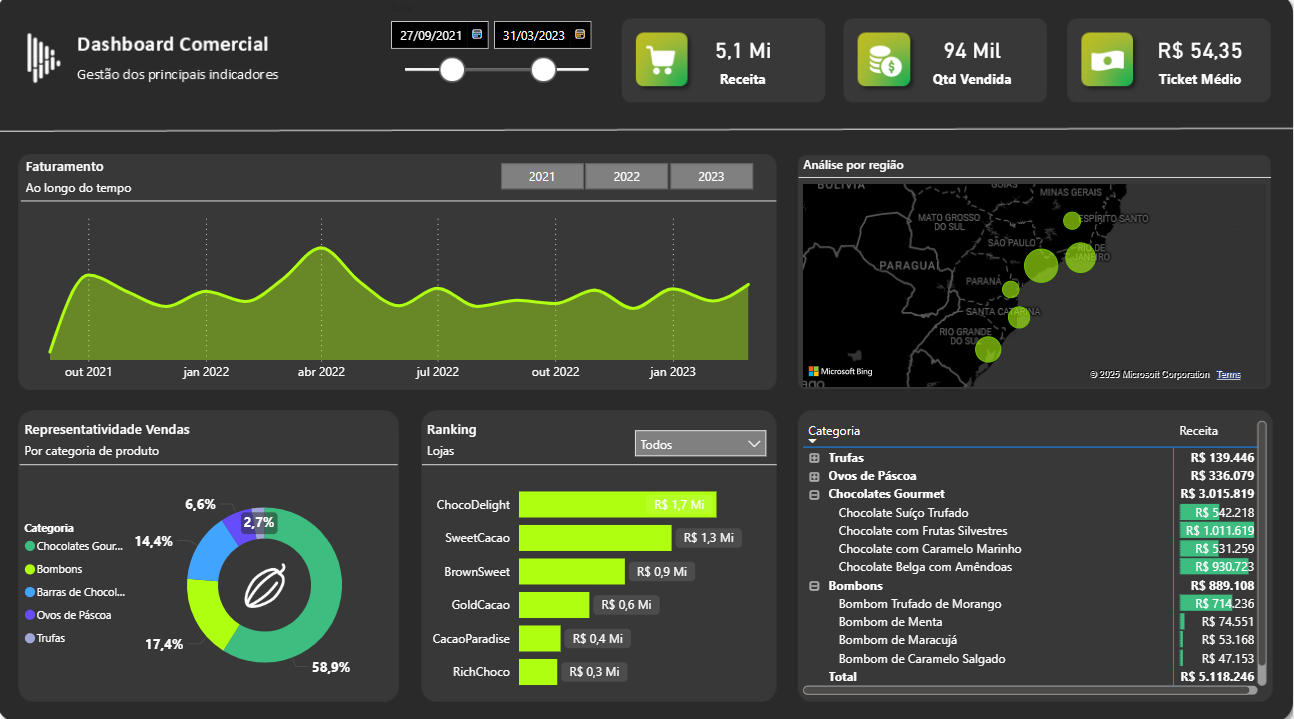

This screenshot's page, from the dashboard's own definition file:
{"tool":"powerbi","page":{"name":"Página 1","canvas":[1280,720],"ordinal":0},"visuals":[{"type":"cardVisual","fields":{"Data":["Vendas.Receita"]},"box":[648.2,20.9,177.3,90.9],"z":0},{"type":"cardVisual","fields":{"Data":["Vendas.Qtd Vendida"]},"box":[867.3,20.9,193.6,90.9],"z":1000},{"type":"cardVisual","fields":{"Data":["Vendas.Preço Médio por Venda"]},"box":[1118.2,20.9,140,90.9],"z":2000},{"type":"areaChart","title":"Faturamento","fields":{"Category":["Vendas.Data.Variation.Hierarquia de datas.Ano","Vendas.Data.Variation.Hierarquia de datas.Trimestre","Vendas.Data.Variation.Hierarquia de datas.Mês","Vendas.Data.Variation.Hierarquia de datas.Dia"],"Y":["Vendas.Receita"]},"box":[22.9,158,746.8,230.4],"z":3000},{"type":"map","title":"Análise por região","fields":{"Category":["Lojas.Cidade"],"Size":["Vendas.Receita"]},"box":[790.8,157.7,466.9,231.5],"z":4000},{"type":"donutChart","title":"Representatividade Vendas","fields":{"Y":["Vendas.Receita"],"Category":["Produtos.Categoria"]},"box":[22.7,419.1,373.6,280.9],"z":5000},{"type":"barChart","title":"Ranking","fields":{"Category":["Lojas.Loja"],"Y":["Vendas.Receita"]},"box":[420,419.1,350,280],"z":6000},{"type":"pivotTable","fields":{"Rows":["Produtos.Categoria","Produtos.Produto"],"Values":["Vendas.Receita"]},"box":[791.2,415,467.5,280],"z":7000},{"type":"image","box":[152.7,555.5,223.6,53.6],"z":8000},{"type":"slicer","fields":{"Values":["Vendas.Data"]},"box":[376.4,0,229.2,129.1],"z":9000},{"type":"slicer","fields":{"Values":["Vendas.Data.Variation.Hierarquia de datas.Ano"]},"box":[471,158,299,39],"z":10000},{"type":"slicer","fields":{"Values":["Lojas.Loja"]},"box":[620,418.9,150,60],"z":11000}]}

Visuals, with their boxes in screenshot pixels (x1, y1, x2, y2), scaled from the page's 1280x720 canvas onto the 1294x719 screenshot:
cardVisual - Vendas.Receita: bbox=[655, 21, 835, 112]
cardVisual - Vendas.Qtd Vendida: bbox=[877, 21, 1073, 112]
cardVisual - Vendas.Preço Médio por Venda: bbox=[1130, 21, 1272, 112]
"Faturamento" areaChart: bbox=[23, 158, 778, 388]
"Análise por região" map: bbox=[799, 157, 1271, 389]
"Representatividade Vendas" donutChart: bbox=[23, 419, 401, 699]
"Ranking" barChart: bbox=[425, 419, 778, 698]
pivotTable - Produtos.Categoria x Produtos.Produto: bbox=[800, 414, 1272, 694]
image: bbox=[154, 555, 380, 608]
slicer - Vendas.Data: bbox=[381, 0, 612, 129]
slicer - Vendas.Data.Variation.Hierarquia de datas.Ano: bbox=[476, 158, 778, 197]
slicer - Lojas.Loja: bbox=[627, 418, 778, 478]
